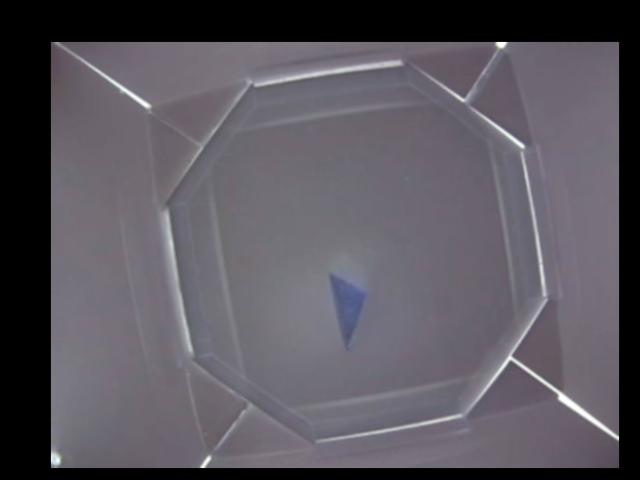Mooli: (330, 276, 366, 347)
